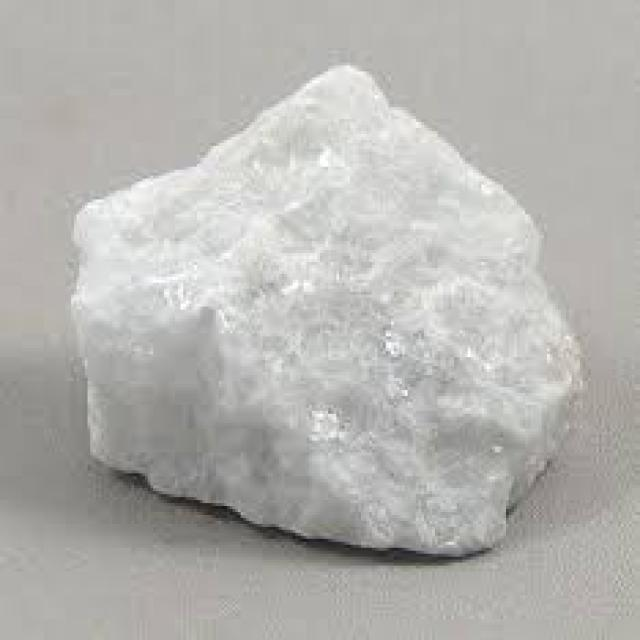Metamorphic: (52, 66, 593, 556)
